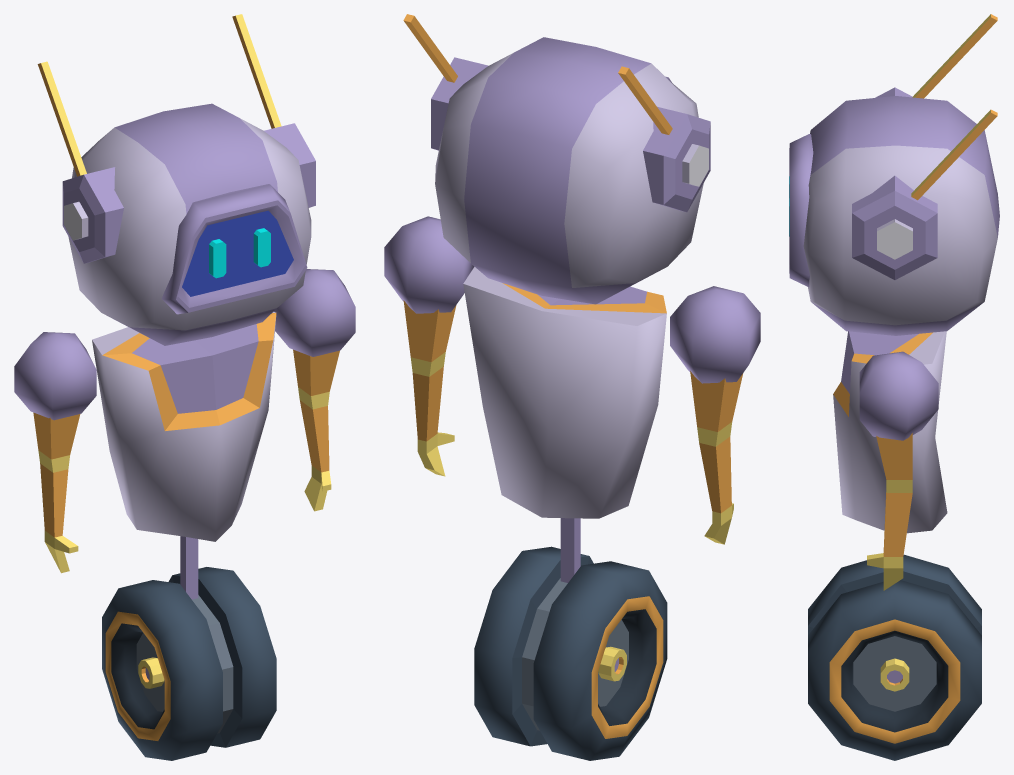
File: Character_Model_V01.fbx
3 renders of one model, left to right at view 1: azimuth 30°, elevation 25°; view 2: azimuth 150°, elevation 25°; view 3: azimuth 270°, elevation 25°, orthographic. The views are drawn at different scales.
Parts seen in each view (by area): view 1: Head, Cube, Wheel, Arm Right, Arm Left; view 2: Head, Cube, Wheel, Arm Right, Arm Left; view 3: Head, Wheel, Cube, Arm Left.
Boxes of the visible parts, x1,y1,x2,y2 form: Head: [37, 14, 315, 345]; Cube: [92, 311, 276, 541]; Wheel: [102, 536, 276, 760]; Arm Right: [14, 332, 96, 573]; Arm Left: [274, 269, 355, 511]; Head: [403, 14, 710, 304]; Cube: [463, 267, 666, 518]; Wheel: [474, 518, 667, 760]; Arm Right: [670, 286, 760, 544]; Arm Left: [384, 216, 474, 476]; Head: [789, 14, 999, 335]; Wheel: [808, 554, 981, 760]; Cube: [833, 331, 947, 533]; Arm Left: [859, 351, 938, 590].
Bounding box in the file's own units: 350 × 680 × 192.
